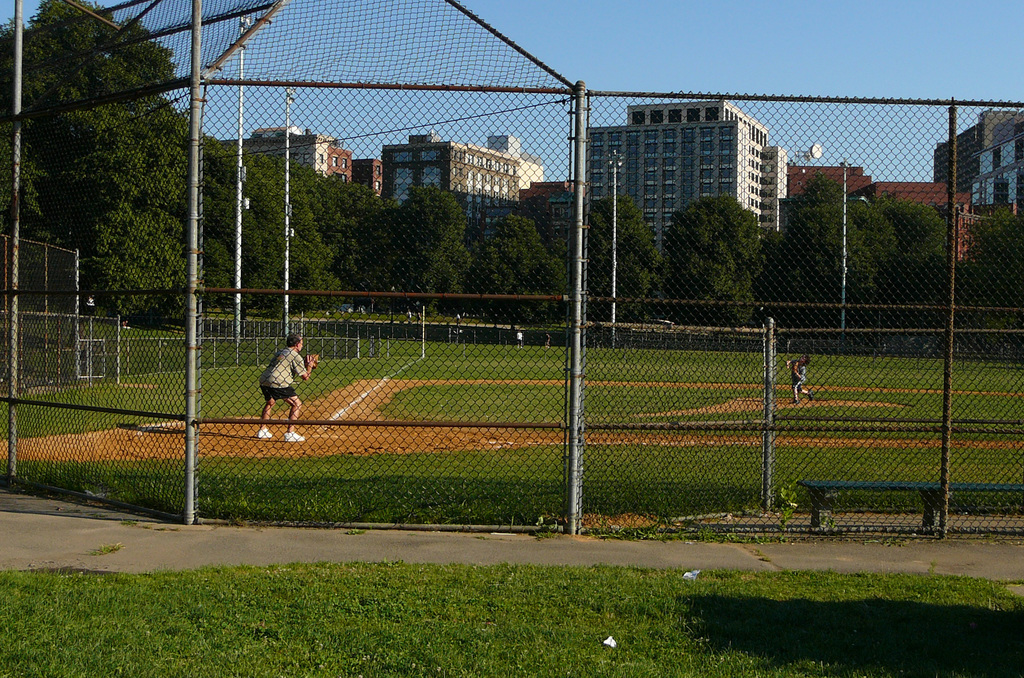Person: (259, 333, 315, 441), (785, 350, 815, 405)
